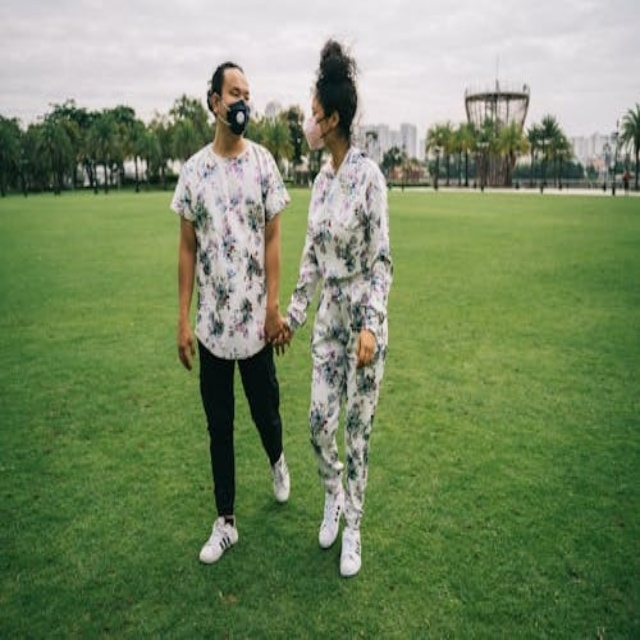Mascara: (218, 98, 250, 134), (303, 112, 330, 150)
Sin_gafas: (220, 79, 248, 98)
Sin_guantes: (259, 302, 291, 357), (172, 313, 198, 373), (356, 326, 377, 366)
